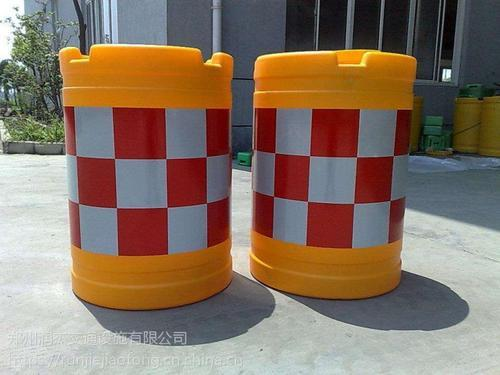sign: (52, 38, 240, 314), (248, 42, 414, 298)
